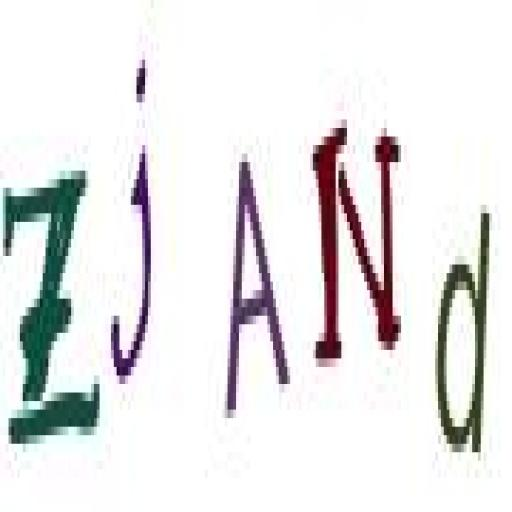A: (217, 132, 295, 428)
N: (305, 116, 407, 373)
Z: (1, 168, 103, 457)
d: (430, 196, 494, 482)
j: (108, 54, 160, 394)
